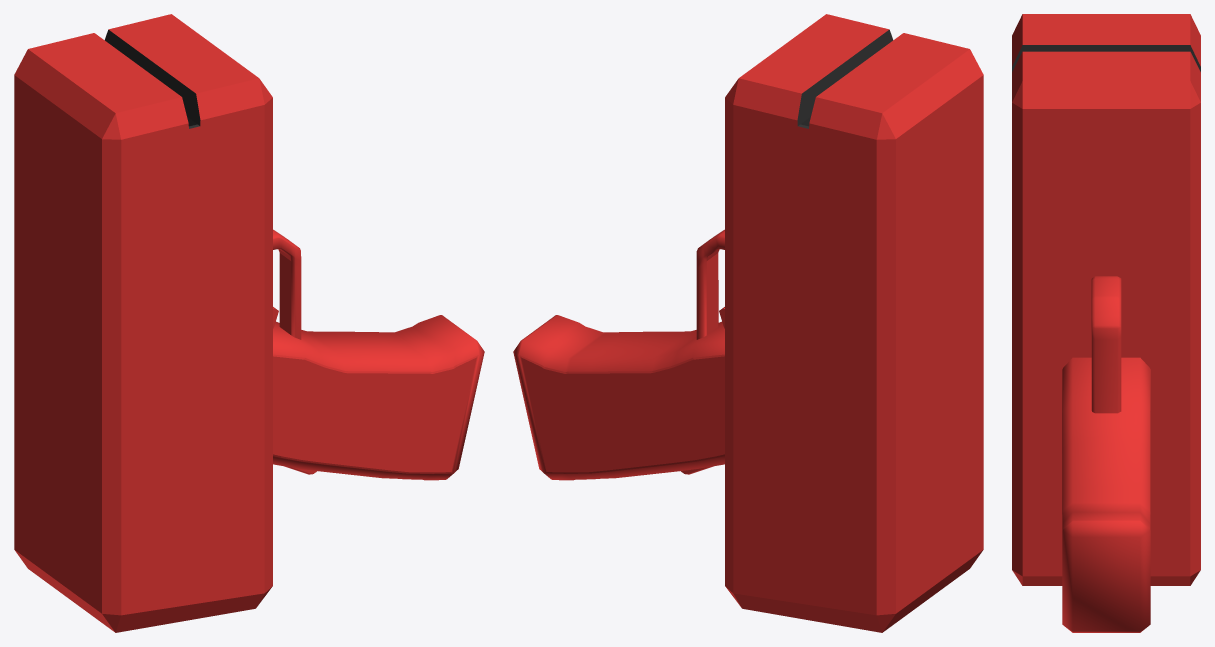
File: MoneyGun.fbx
3 views of the same model, side by side, from view 1: azimuth 30°, elevation 25°; view 2: azimuth 150°, elevation 25°; view 3: azimuth 270°, elevation 25° (orthographic). The views are drawn at different scales.
Parts seen in each view (by area): view 1: MoneyGun; view 2: MoneyGun; view 3: MoneyGun.
Boxes of the visible parts, x1,y1,x2,y2 form: MoneyGun: [14, 14, 484, 632]; MoneyGun: [513, 14, 983, 632]; MoneyGun: [1012, 14, 1200, 632].
Bounding box in the file's own units: 145 × 180 × 60.79.
